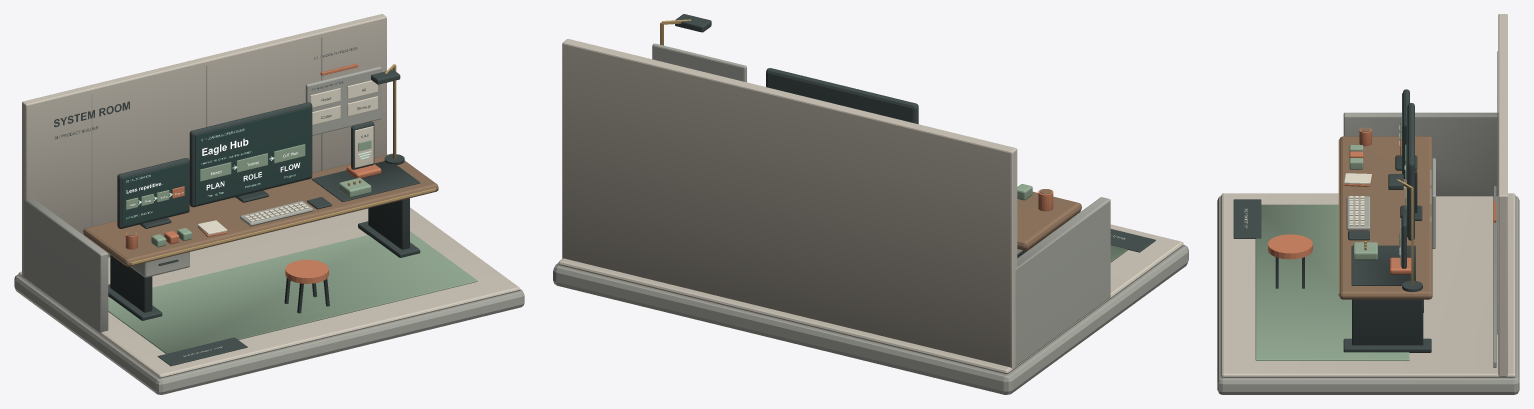
The model's file is system-room.glb.
3 renders of one model, left to right at view 1: azimuth 30°, elevation 25°; view 2: azimuth 150°, elevation 25°; view 3: azimuth 270°, elevation 25°, orthographic. The views are drawn at different scales.
Parts seen in each view (by area): view 1: 01_Architecture__01_Plaster, 01_Architecture__06_Sage, 01_Architecture__02_Limestone, 02_Furniture__04_Table_Oak, 03_Eagle_Hub__08_Screen_Ink, 02_Furniture__03_Graphite, 04_Automation__08_Screen_Ink, 05_Build_Prototype__02_Limestone, 05_Build_Prototype__03_Graphite, 05_Build_Prototype__07_Ivory, 03_Eagle_Hub__03_Graphite, 01_Architecture__03_Graphite (+11 smaller); view 2: 01_Architecture__01_Plaster, 01_Architecture__02_Limestone, 03_Eagle_Hub__03_Graphite, 02_Furniture__04_Table_Oak, 05_Build_Prototype__02_Limestone, 01_Architecture__03_Graphite; view 3: 01_Architecture__01_Plaster, 01_Architecture__02_Limestone, 01_Architecture__06_Sage, 02_Furniture__04_Table_Oak, 02_Furniture__03_Graphite, 05_Build_Prototype__03_Graphite, 03_Eagle_Hub__03_Graphite, 01_Architecture__03_Graphite, 02_Furniture__05_Terracotta, 03_Eagle_Hub__02_Limestone, 04_Automation__03_Graphite, 05_Build_Prototype__06_Sage (+9 smaller).
Boxes of the visible parts, box(x1,y1,x2,y2) form: 01_Architecture__01_Plaster: box(18, 14, 520, 378); 01_Architecture__06_Sage: box(108, 231, 477, 353); 01_Architecture__02_Limestone: box(14, 37, 524, 394); 02_Furniture__04_Table_Oak: box(83, 153, 438, 266); 03_Eagle_Hub__08_Screen_Ink: box(195, 107, 310, 204); 02_Furniture__03_Graphite: box(108, 198, 420, 320); 04_Automation__08_Screen_Ink: box(122, 163, 188, 226); 05_Build_Prototype__02_Limestone: box(305, 66, 381, 135); 05_Build_Prototype__03_Graphite: box(311, 81, 420, 201); 05_Build_Prototype__07_Ivory: box(310, 80, 377, 167); 03_Eagle_Hub__03_Graphite: box(189, 102, 331, 209); 01_Architecture__03_Graphite: box(54, 47, 357, 366); 01_Architecture__01_Plaster: box(558, 39, 1183, 373); 01_Architecture__02_Limestone: box(553, 197, 1188, 394); 03_Eagle_Hub__03_Graphite: box(766, 68, 918, 124); 02_Furniture__04_Table_Oak: box(1017, 191, 1081, 250); 05_Build_Prototype__02_Limestone: box(652, 43, 746, 82); 01_Architecture__03_Graphite: box(1056, 220, 1155, 252); 01_Architecture__01_Plaster: box(1221, 14, 1515, 377); 01_Architecture__02_Limestone: box(1217, 51, 1519, 394); 01_Architecture__06_Sage: box(1255, 204, 1409, 360); 02_Furniture__04_Table_Oak: box(1339, 136, 1432, 299); 02_Furniture__03_Graphite: box(1275, 257, 1431, 352); 05_Build_Prototype__03_Graphite: box(1351, 214, 1415, 285); 03_Eagle_Hub__03_Graphite: box(1348, 103, 1422, 240); 01_Architecture__03_Graphite: box(1233, 199, 1261, 238); 02_Furniture__05_Terracotta: box(1268, 234, 1312, 259); 03_Eagle_Hub__02_Limestone: box(1346, 196, 1370, 230); 04_Automation__03_Graphite: box(1395, 89, 1417, 179); 05_Build_Prototype__06_Sage: box(1353, 233, 1400, 260).
Bounding box in the file's own units: 8 × 4 × 5.5.
